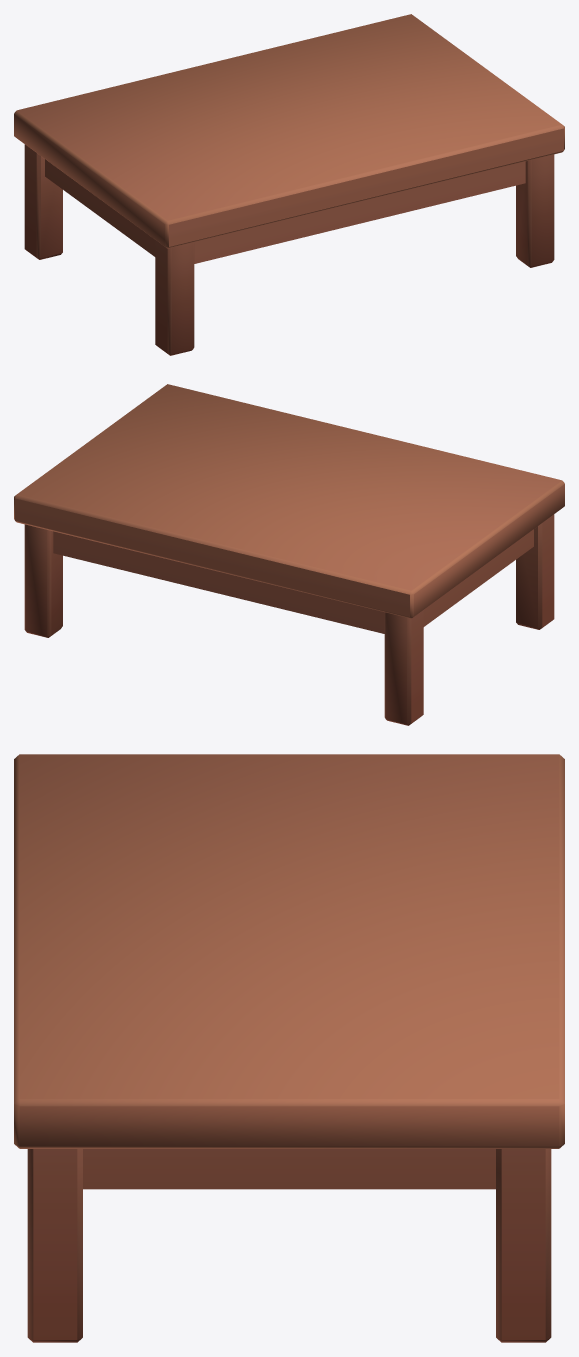
File: kay-mesa-comprida.gltf
The picture shows the model from 3 angles, top to bottom: view 1: azimuth 30°, elevation 25°; view 2: azimuth 150°, elevation 25°; view 3: azimuth 270°, elevation 25°; orthographic projection. The views are drawn at different scales.
Parts seen in each view (by area): view 1: table_medium_long; view 2: table_medium_long; view 3: table_medium_long.
Part boxes in pixels (left/top/right/bottom): table_medium_long: left=14, top=14, right=564, bottom=355; table_medium_long: left=14, top=384, right=564, bottom=725; table_medium_long: left=14, top=754, right=564, bottom=1342.
Bounding box in the file's own units: 1.95 × 0.6499 × 1.3.
Materials: 1 (1 with a texture image).
